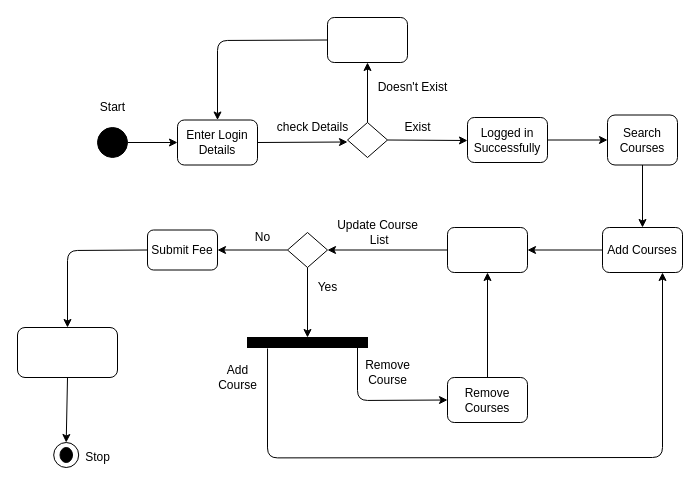
This 700x485 diagram has some shape labels left out. Each missing label, with the centre of its shape:
Register Student: point 367,39
Show Courses List: point 487,249
Update student Details: point 67,352
